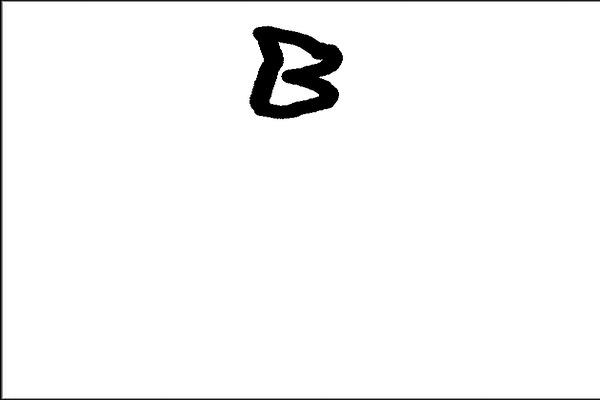B: (240, 17, 352, 127)
